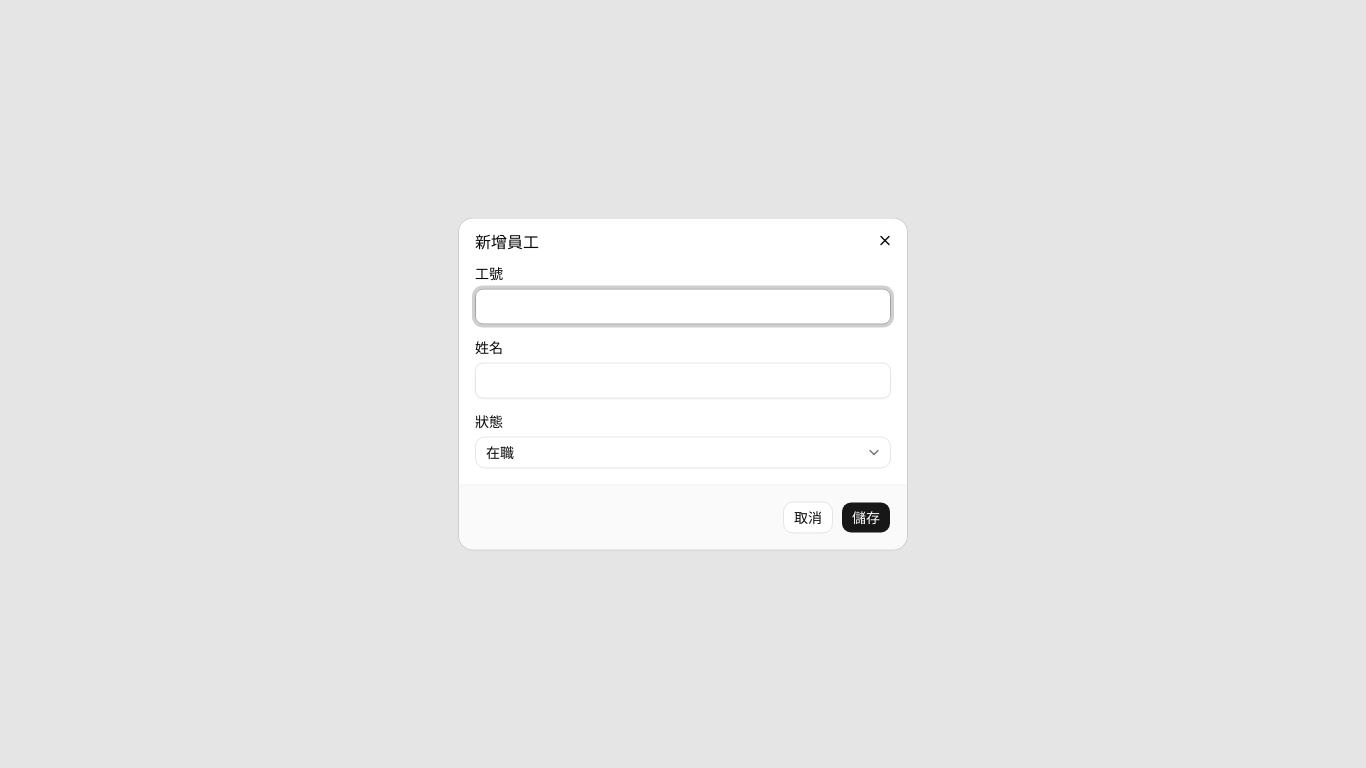
EmployeeForm 員工表單 › 輸入重複工號（與 seed 的 E001 相同）顯示「工號已存在」
The width and height of the screenshot is (1366, 768).
Expected: the dialog is shown, [459, 218, 907, 550]
Type "E001" into the field labelled "工號" at (683, 306), box [475, 288, 891, 324]
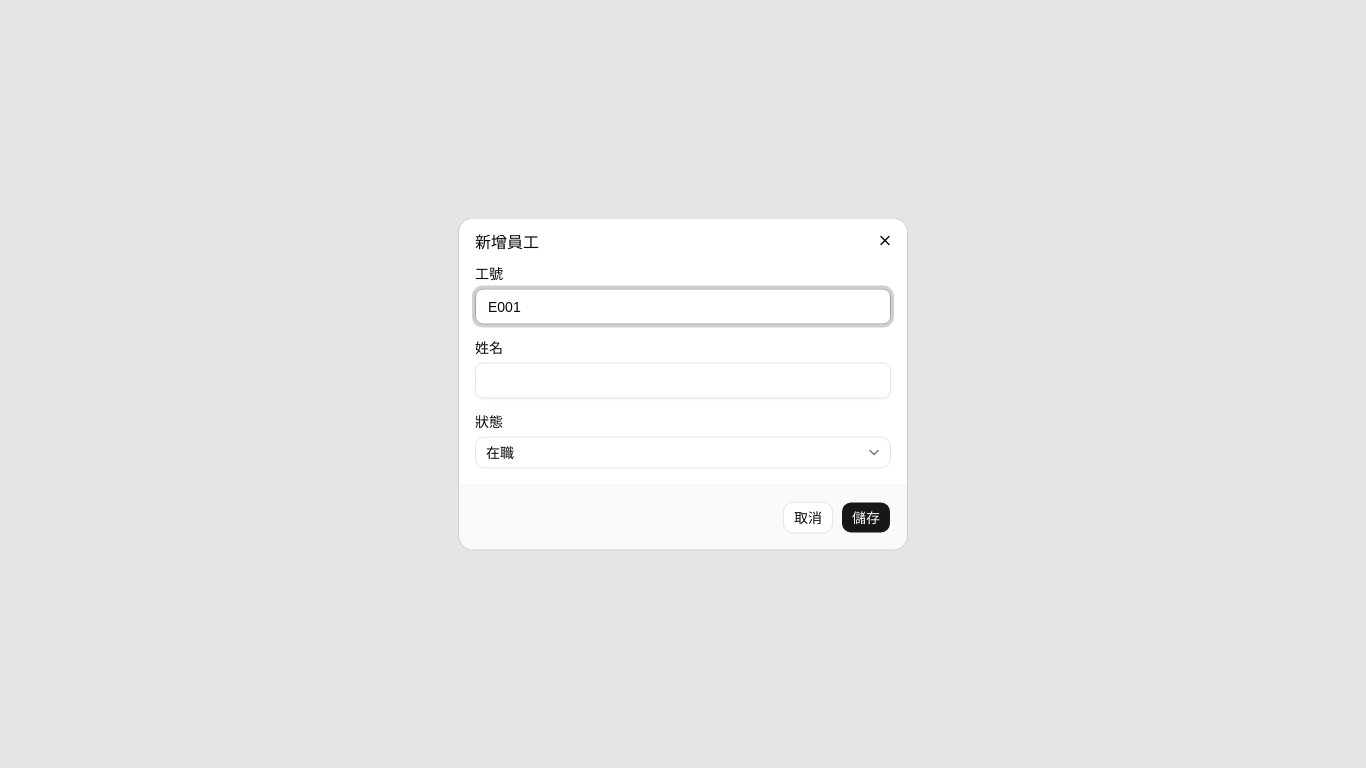
Type "測試員工" into the field labelled "姓名" at (683, 380), box [475, 362, 891, 398]
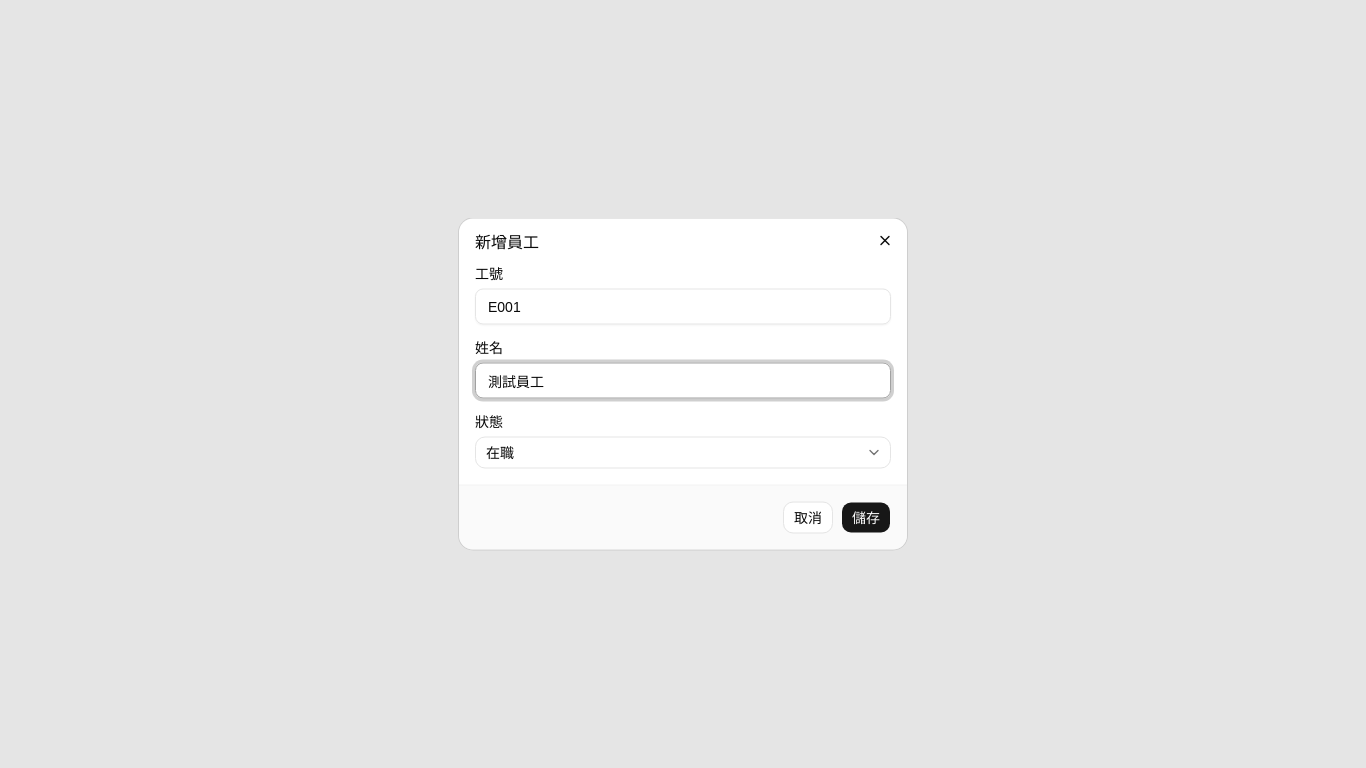
Click the button "儲存" at (866, 518), box [841, 502, 891, 534]
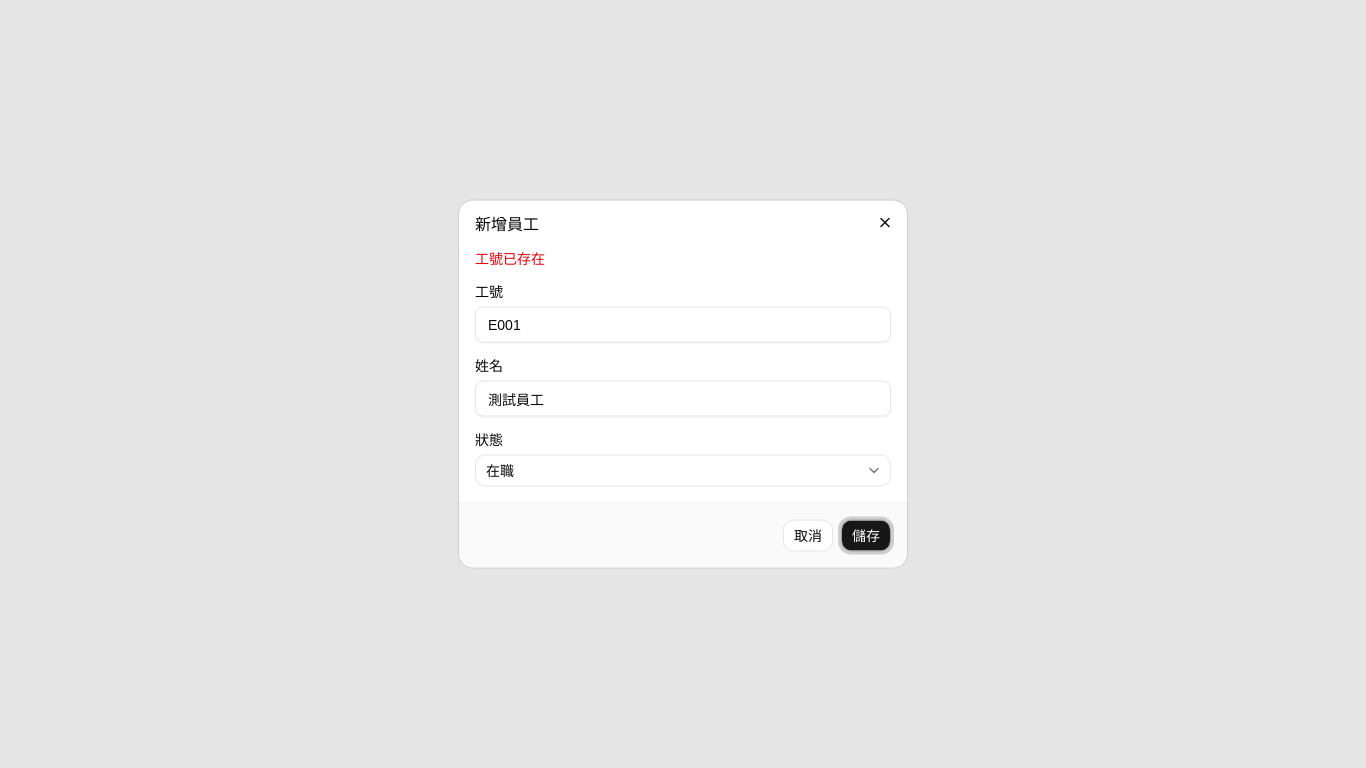
Now the text "工號已存在" is shown, box [475, 250, 545, 266]
